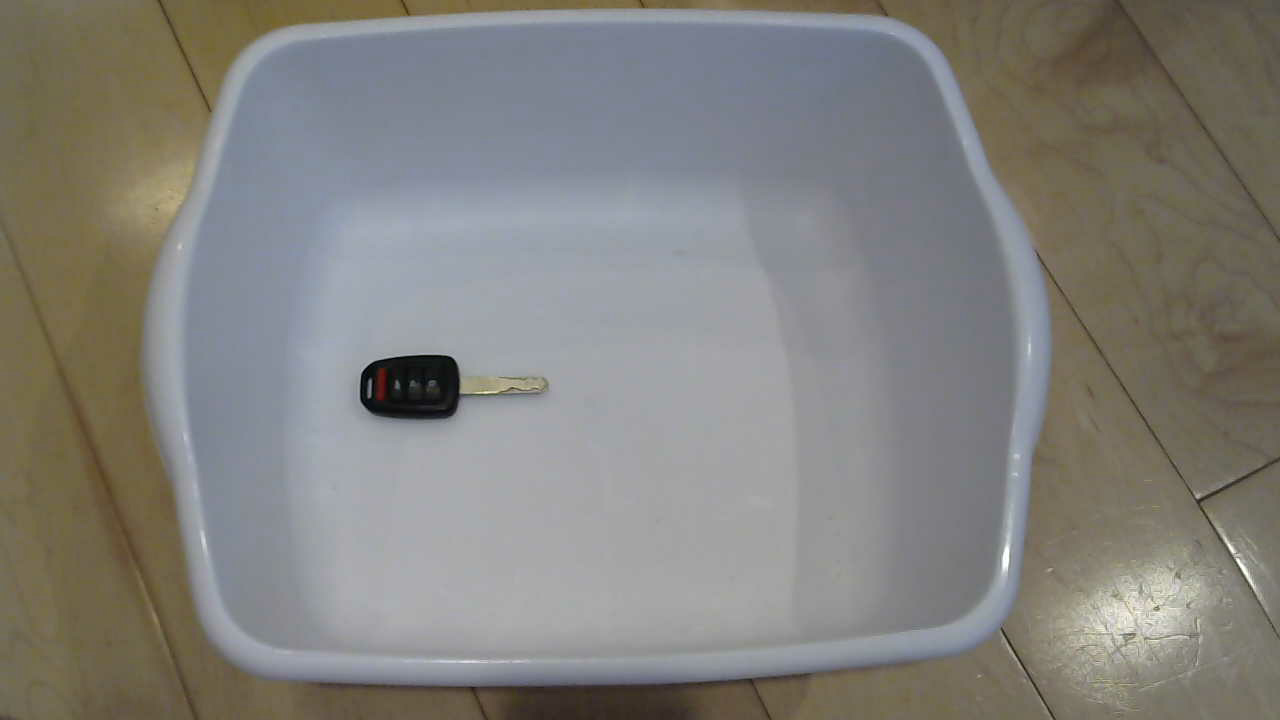key: (356, 341, 562, 430)
